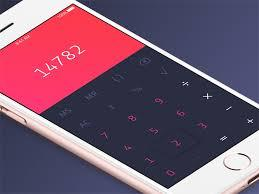Calculator: (27, 34, 259, 192)
